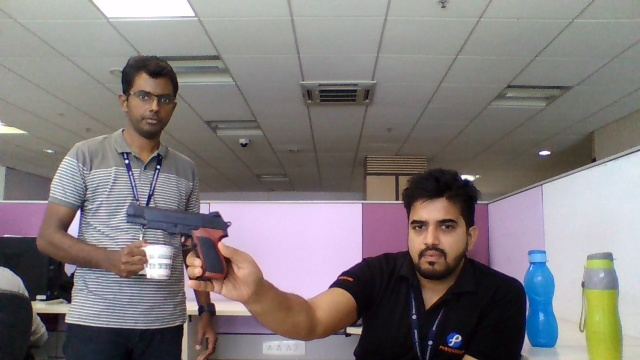gun: (126, 200, 226, 281)
